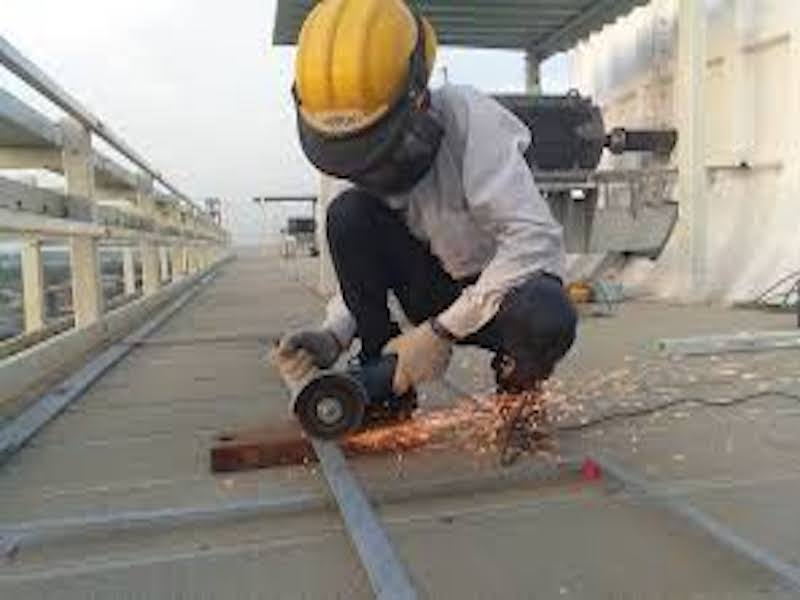Heating_source: (343, 372, 670, 462)
